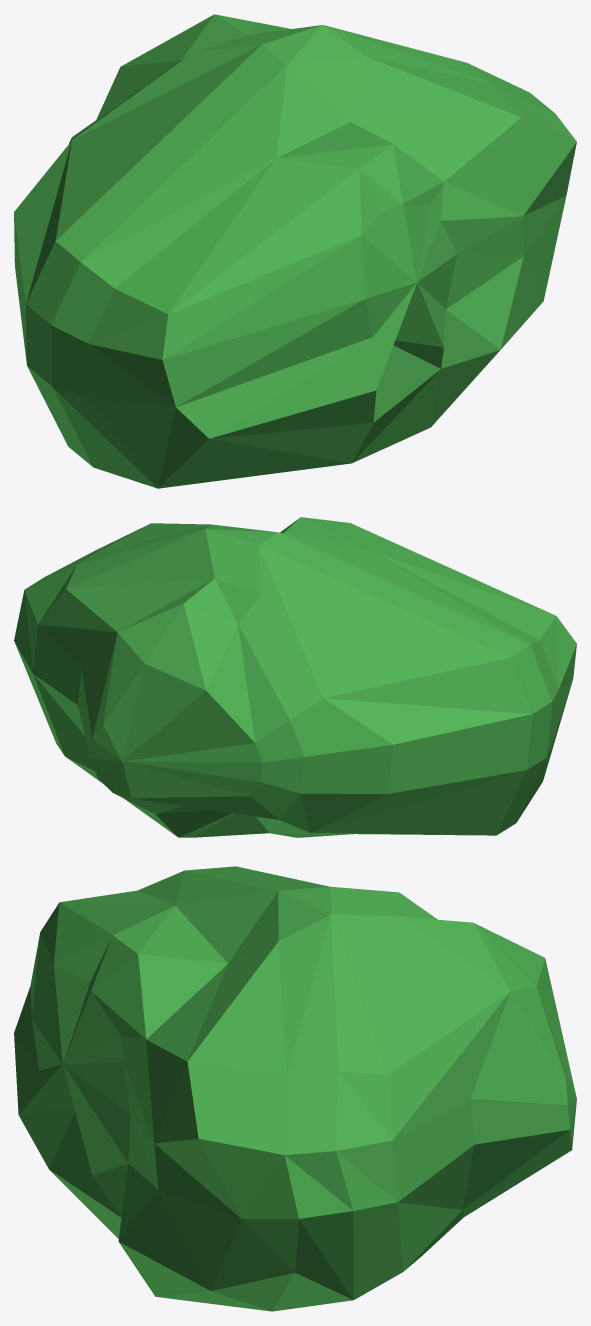
The picture shows the model from 3 angles, top to bottom: view 1: azimuth 30°, elevation 25°; view 2: azimuth 150°, elevation 25°; view 3: azimuth 270°, elevation 25°; orthographic projection. The views are drawn at different scales.
Visible parts, largest first — view 1: mesh_1829263482; view 2: mesh_1829263482; view 3: mesh_1829263482.
Part boxes in pixels (x1=…): mesh_1829263482: x1=14, y1=14, x2=576, y2=488; mesh_1829263482: x1=14, y1=517, x2=576, y2=837; mesh_1829263482: x1=14, y1=866, x2=576, y2=1311.
Size of the model in its own units: 53.66 by 33.83 by 43.52.
